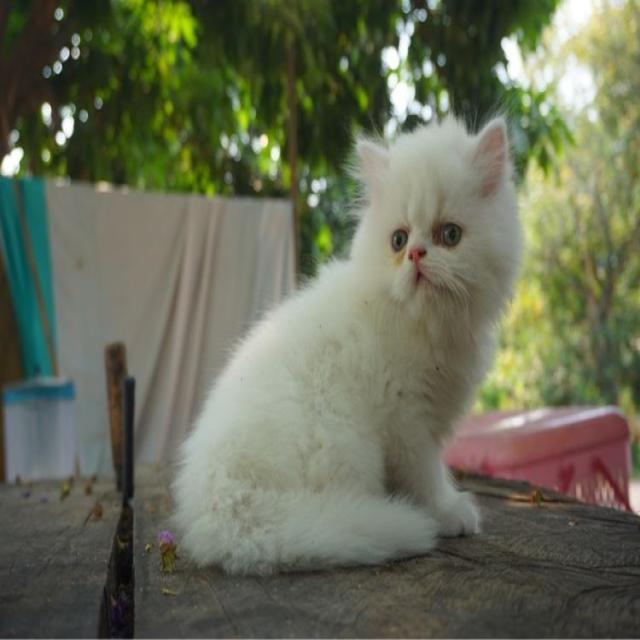persian_cat: (337, 97, 534, 332)
